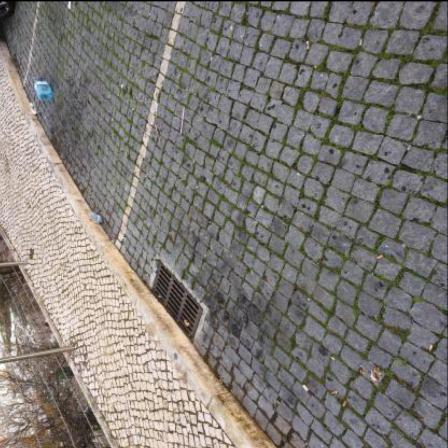Bottle: (36, 78, 55, 101), (92, 211, 104, 222)
Cigarette: (377, 255, 385, 259), (343, 401, 348, 407), (333, 390, 339, 394), (221, 380, 225, 384), (332, 357, 336, 361), (179, 74, 183, 78), (127, 151, 129, 157), (194, 159, 197, 163), (139, 103, 141, 107), (134, 95, 136, 99), (121, 94, 123, 98), (113, 117, 115, 121), (94, 86, 96, 90), (119, 184, 121, 188), (126, 237, 128, 241), (113, 239, 115, 243), (46, 115, 48, 119), (155, 72, 158, 74), (122, 149, 125, 151), (146, 175, 149, 177), (134, 108, 136, 110), (110, 95, 111, 99), (89, 173, 91, 175), (148, 173, 150, 175), (206, 255, 208, 257), (101, 213, 103, 214), (161, 226, 162, 228), (48, 22, 49, 24)
